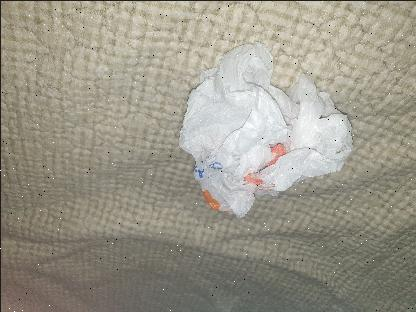Others: (177, 41, 351, 216)
